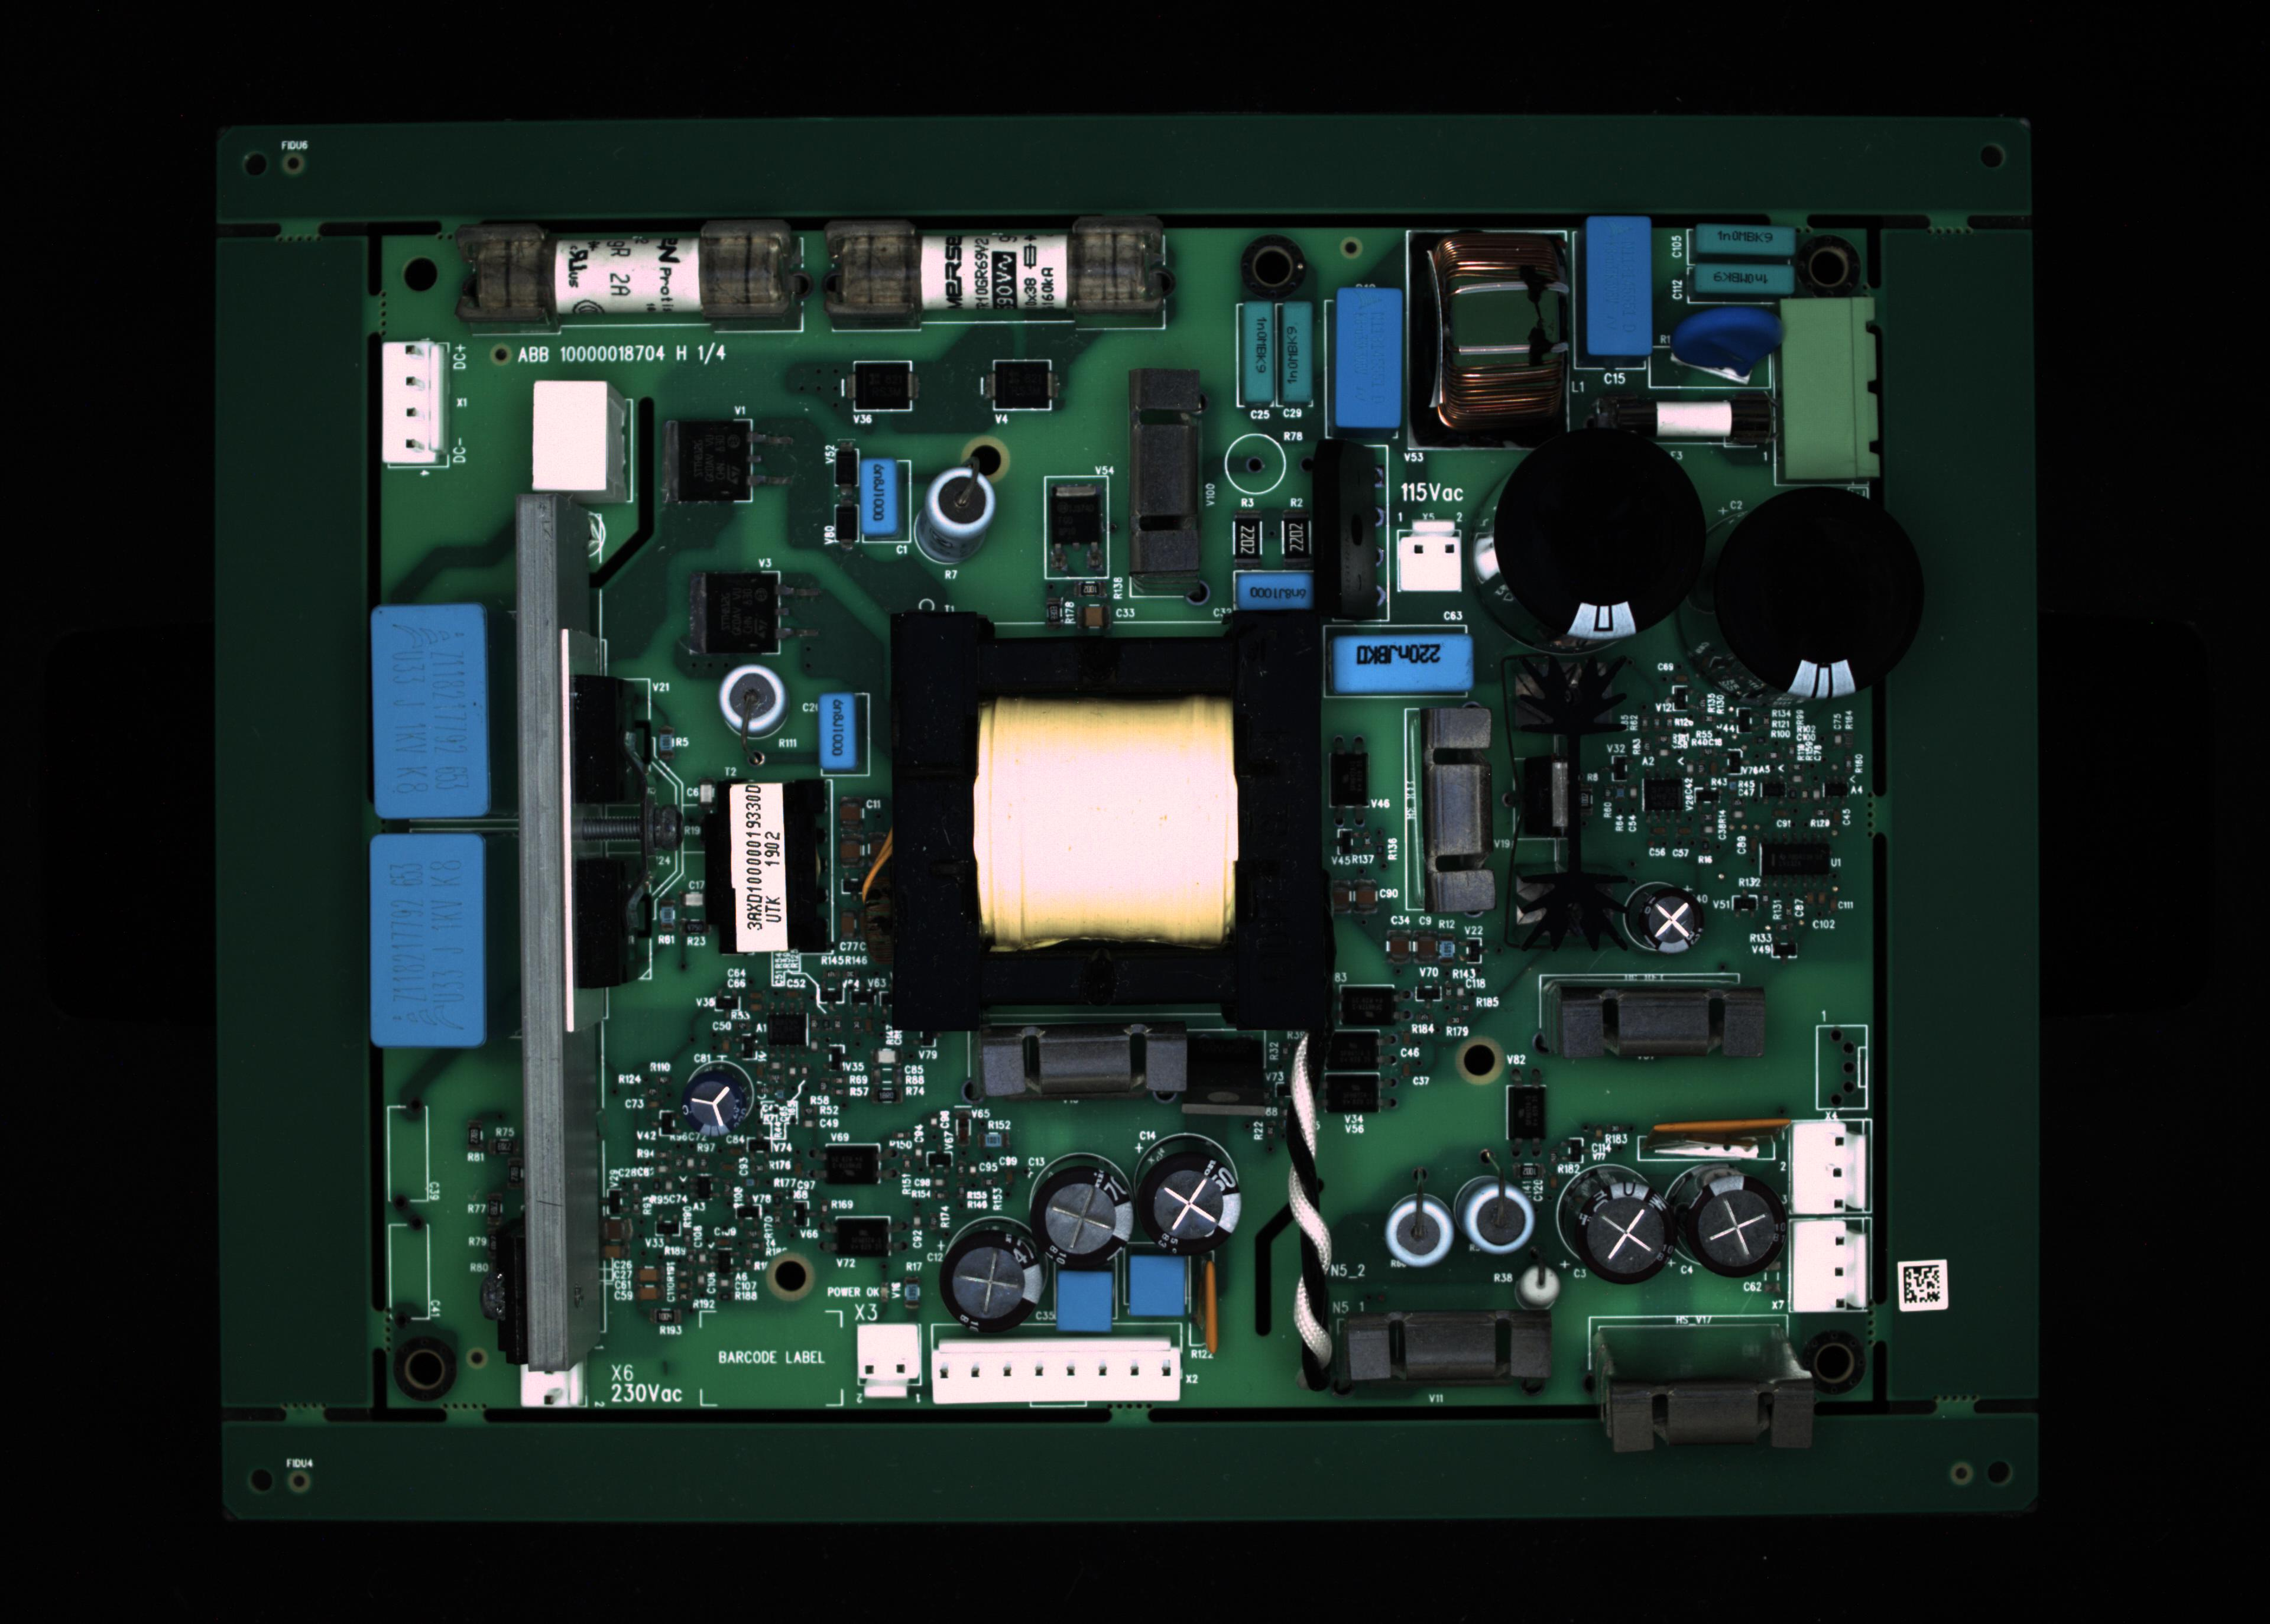10_p: (1648, 346, 1772, 394)
11_q: (1779, 297, 1885, 489)
12_r: (1591, 387, 1776, 455)
13_s: (380, 337, 447, 473)
14_t: (529, 380, 622, 501)
15_e: (858, 457, 899, 536)
16_k: (906, 457, 1000, 562)
17_u: (1127, 385, 1206, 608)
18_v: (1234, 569, 1317, 615)
19_w: (1338, 636, 1475, 691)
1_a: (455, 216, 807, 336)
20_f: (1393, 517, 1470, 599)
21_g: (1491, 429, 1709, 638)
22_g: (1714, 482, 1929, 705)
23_h: (369, 610, 489, 819)
24_h: (367, 824, 484, 1042)
25_f: (520, 1364, 587, 1411)
26_f: (858, 1323, 927, 1397)
27_x: (925, 1323, 1185, 1415)
28_i: (1129, 1120, 1241, 1239)
29_i: (1027, 1153, 1134, 1274)
2_a: (819, 216, 1175, 330)
30_i: (939, 1229, 1048, 1329)
31_j: (1050, 1267, 1120, 1339)
32_j: (1132, 1255, 1190, 1318)
33_e: (818, 692, 855, 768)
34_k: (1386, 1190, 1465, 1274)
35_k: (1456, 1178, 1542, 1271)
36_i: (1574, 1183, 1676, 1285)
37_i: (1688, 1172, 1793, 1280)
38_l: (1347, 1318, 1560, 1385)
39_l: (1595, 1378, 1820, 1462)
3_b: (1231, 304, 1270, 410)
40_l: (1539, 977, 1771, 1069)
41_y: (1407, 678, 1505, 919)
43_m: (1792, 1120, 1874, 1216)
44_m: (1788, 1225, 1876, 1311)
45_i: (679, 1065, 756, 1142)
46_n: (1338, 982, 1412, 1028)
47_n: (811, 1142, 899, 1192)
48_n: (818, 1214, 911, 1265)
49_aa: (761, 1011, 814, 1056)
4_b: (1280, 299, 1317, 410)
50_n: (1321, 1030, 1391, 1070)
51_n: (1308, 1070, 1396, 1120)
52_ab: (1329, 740, 1377, 831)
53_ac: (1656, 1130, 1790, 1165)
54_ad: (1194, 1253, 1222, 1364)
55_l: (957, 1021, 1175, 1118)
56_ae: (1176, 1025, 1282, 1132)
57_af: (1509, 647, 1635, 951)
58_i: (1630, 884, 1706, 958)
59_o: (981, 359, 1067, 417)
5_c: (1335, 286, 1400, 424)
60_o: (840, 357, 923, 420)
6_6: (1405, 232, 1572, 452)
7_c: (1588, 218, 1649, 352)
8_d: (1697, 223, 1792, 260)
9_d: (1692, 262, 1793, 297)
